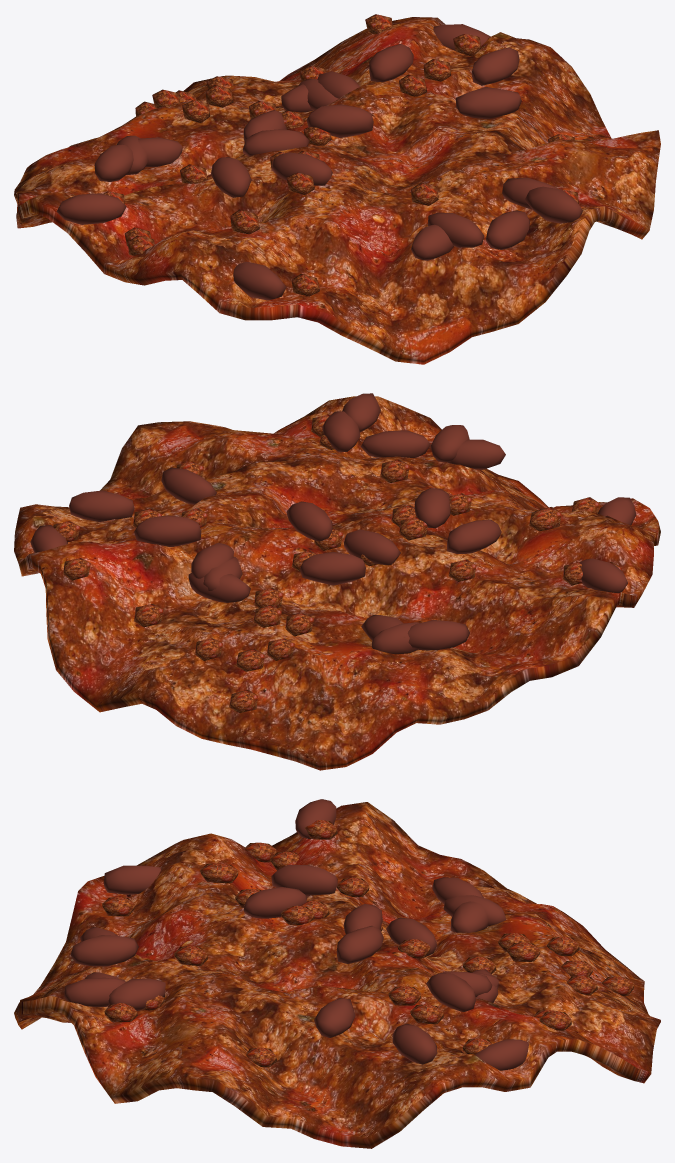
The model's file is sides-chili-large.glb.
The picture shows the model from 3 angles, top to bottom: view 1: azimuth 30°, elevation 25°; view 2: azimuth 150°, elevation 25°; view 3: azimuth 270°, elevation 25°; orthographic projection.
Visible parts, largest first — view 1: Thick chili across fries; view 2: Thick chili across fries; view 3: Thick chili across fries.
Part boxes in pixels (box(x1,y1,x2,y2)): Thick chili across fries: box(14, 14, 660, 364); Thick chili across fries: box(14, 393, 660, 770); Thick chili across fries: box(14, 799, 660, 1148).
Bounding box in the file's own units: 1.95 × 0.4274 × 1.91.
2 materials, 1 textured.
